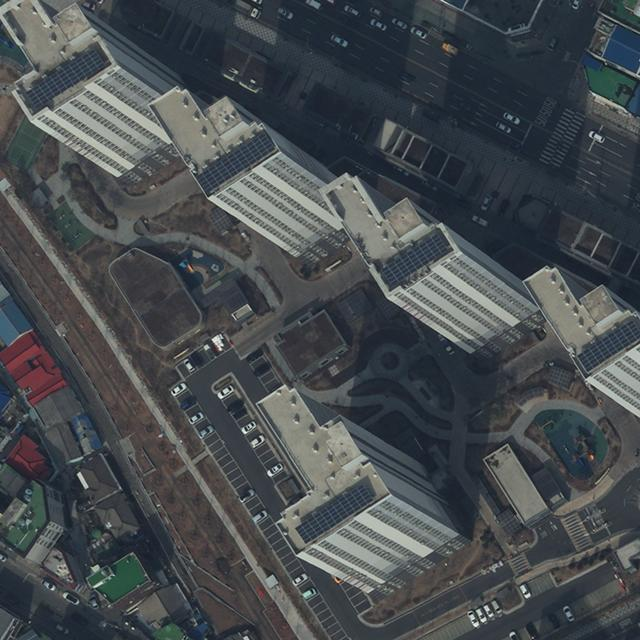panel: (24, 47, 106, 109), (294, 482, 374, 544), (194, 132, 275, 192), (378, 232, 448, 285), (575, 319, 639, 371)
